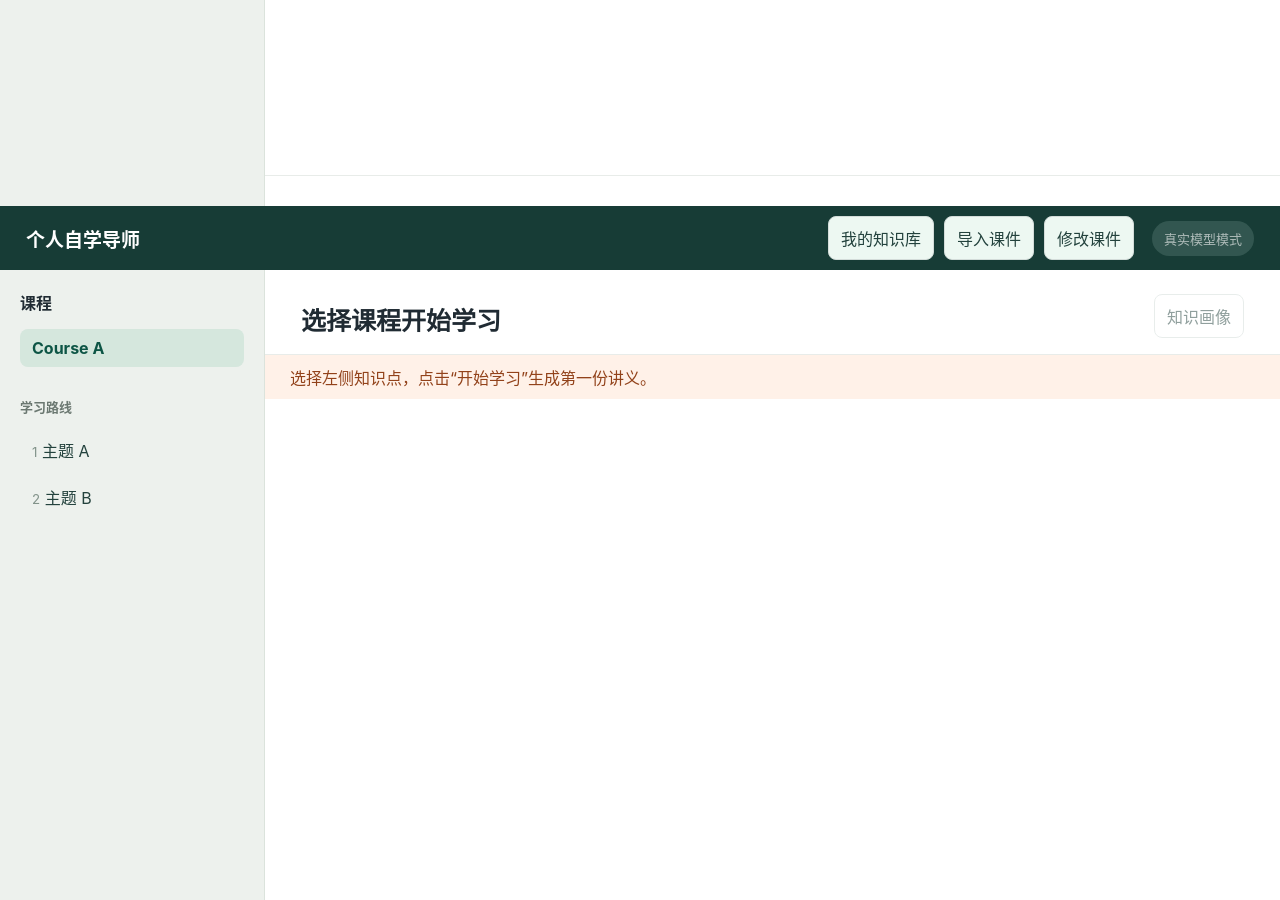
Test: explicit study workflow › opens blank for zero calls, starts explicitly, recovers running job and opens cached lesson with three actions
(page scrolled)
Click the button "1 主题 A" at (132, 450), box 20,429 -> 244,471
(page scrolled)
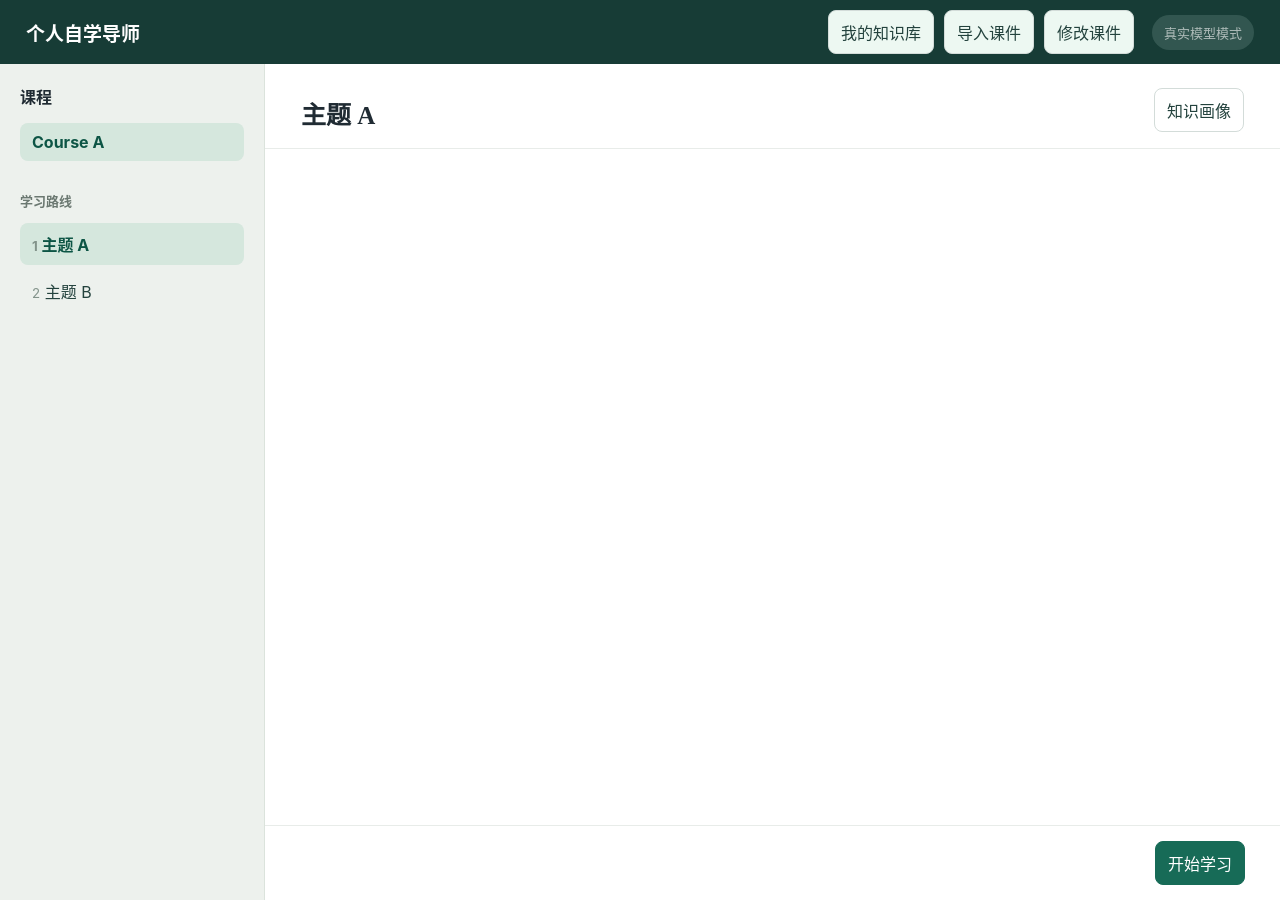
Expected: the element with class "reading" is empty, 265,149 -> 1279,825
Expected: the heading "主题 A" is shown, 301,95 -> 375,131
Expected: the element with class "actions" reads "开始学习"
Click the button "开始学习" at (1200, 863), box 1155,841 -> 1245,885
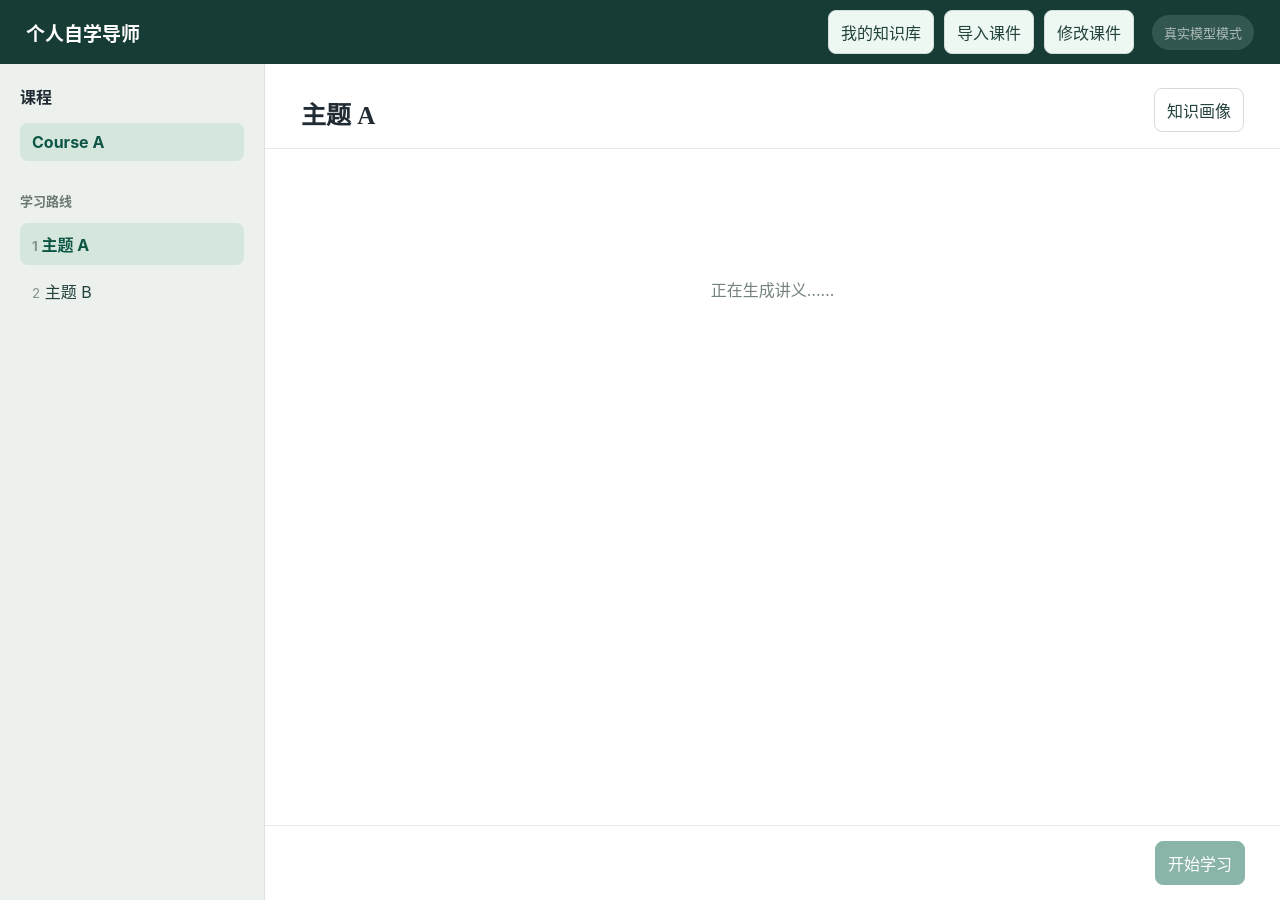
Expected: the element with class "reading" reads "正在生成讲义……", 711,280 -> 834,300
Expected: the button "开始学习" is disabled, 1155,841 -> 1245,885
Click the button "2 主题 B" at (132, 291), box 20,270 -> 244,312
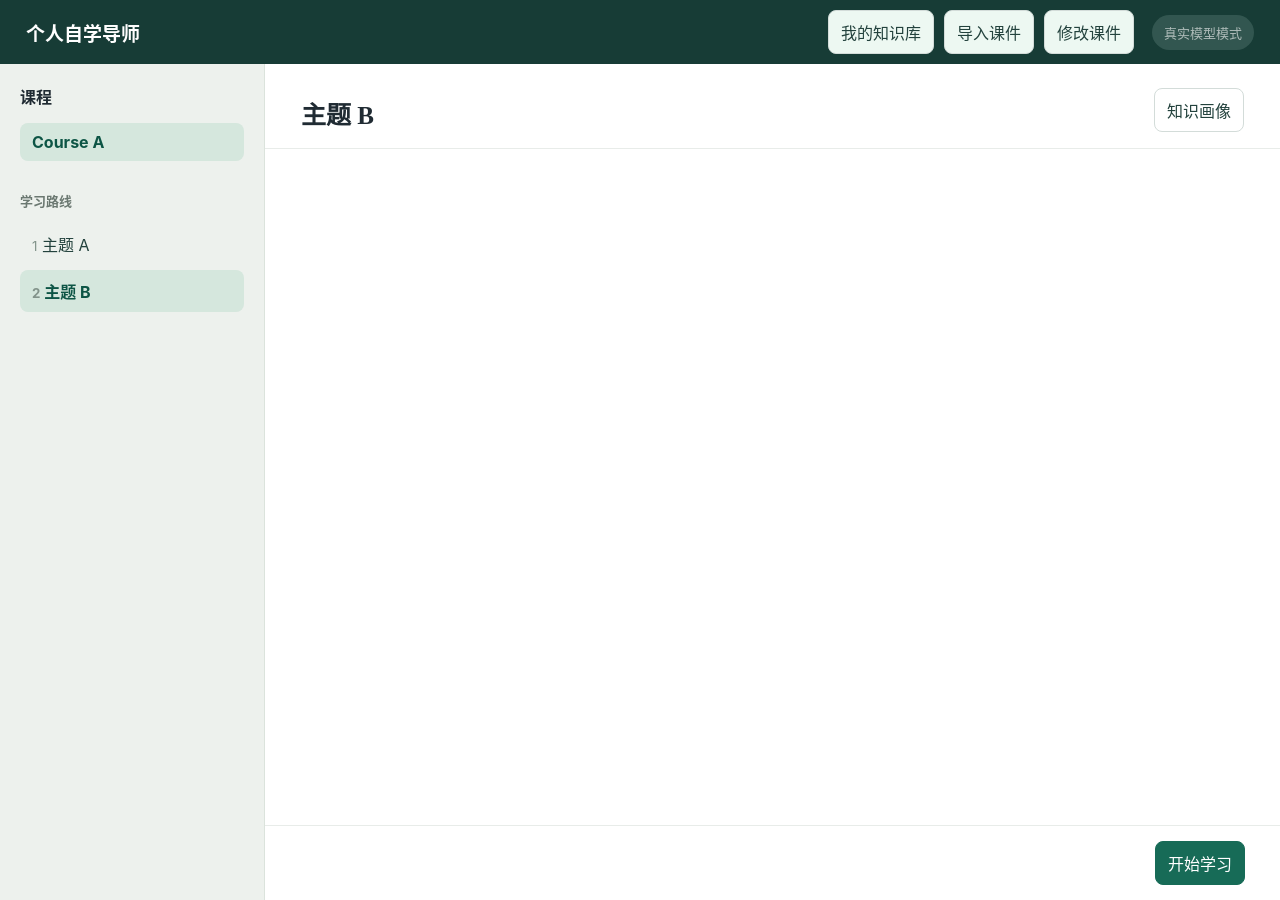
Click the button "1 主题 A" at (132, 244), box 20,223 -> 244,265
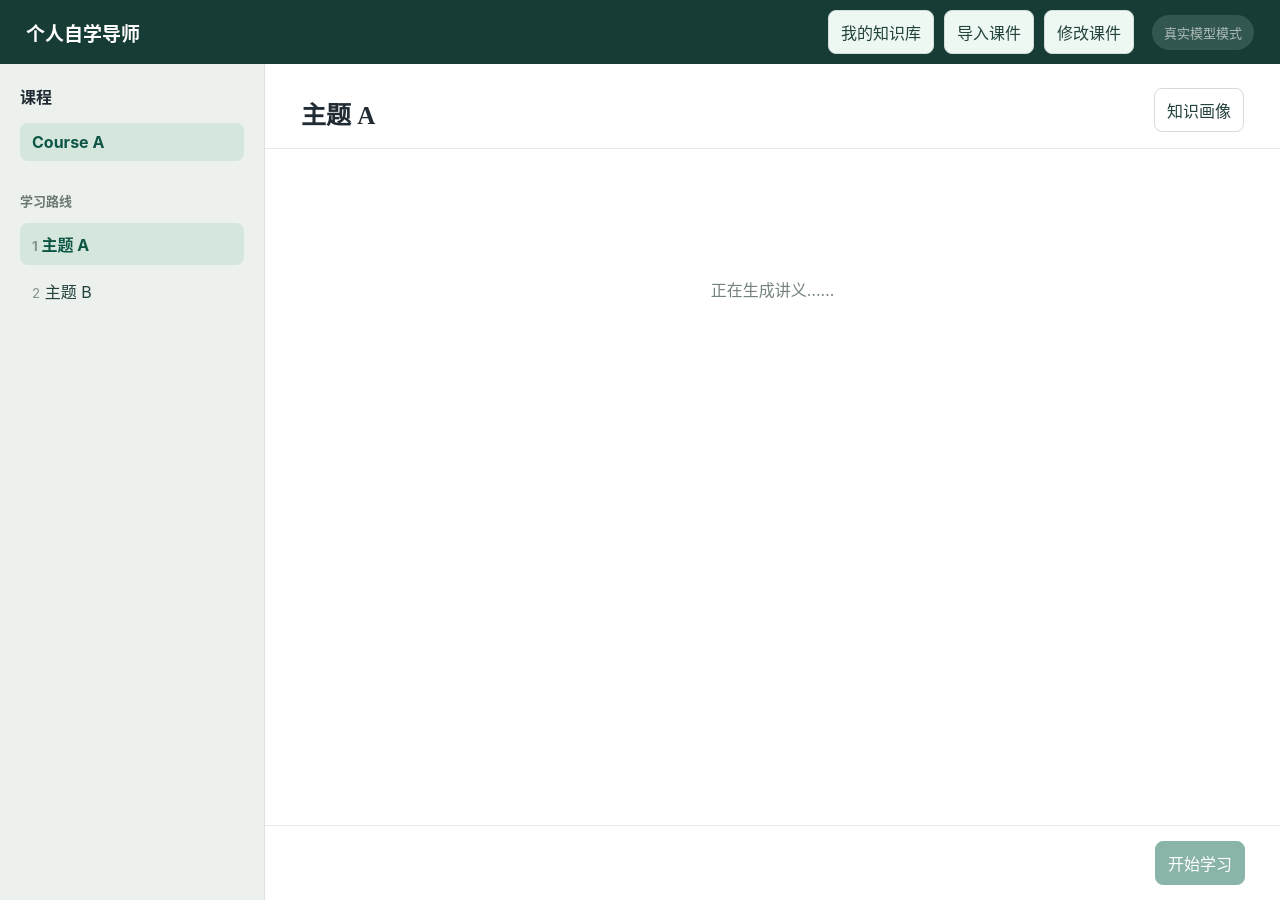
Expected: the element with class "reading" reads "正在生成讲义……", 711,280 -> 834,300
Click the button "1 主题 A" at (132, 244), box 20,223 -> 244,265
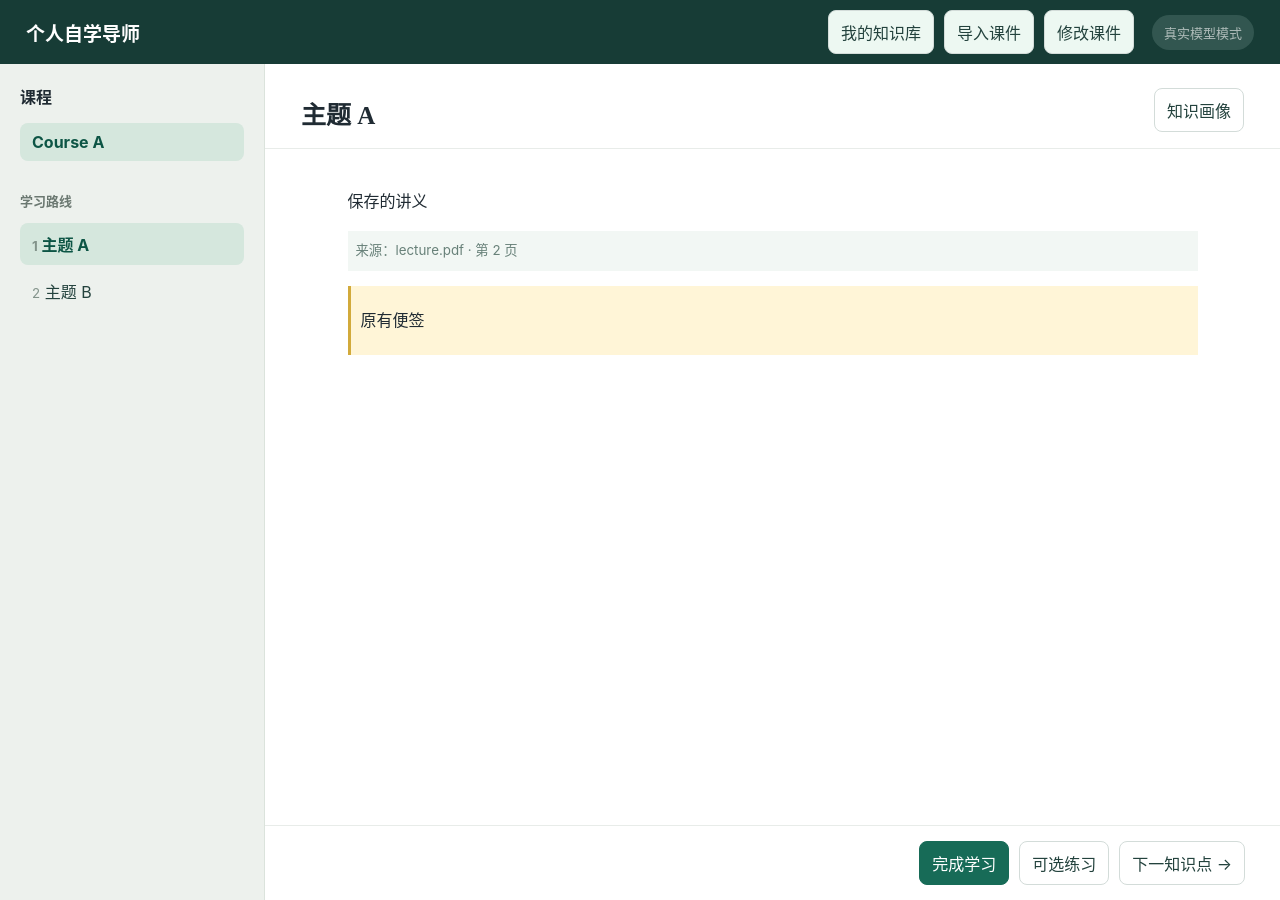
Expected: the element with class "toolbar" does not show "Course A"
Expected: the element with class "reading" shows "原有便签", 360,310 -> 424,330
Expected: the button "下一知识点 →" is shown
Click the button "下一知识点 →" at (1182, 863), box 1119,841 -> 1245,885
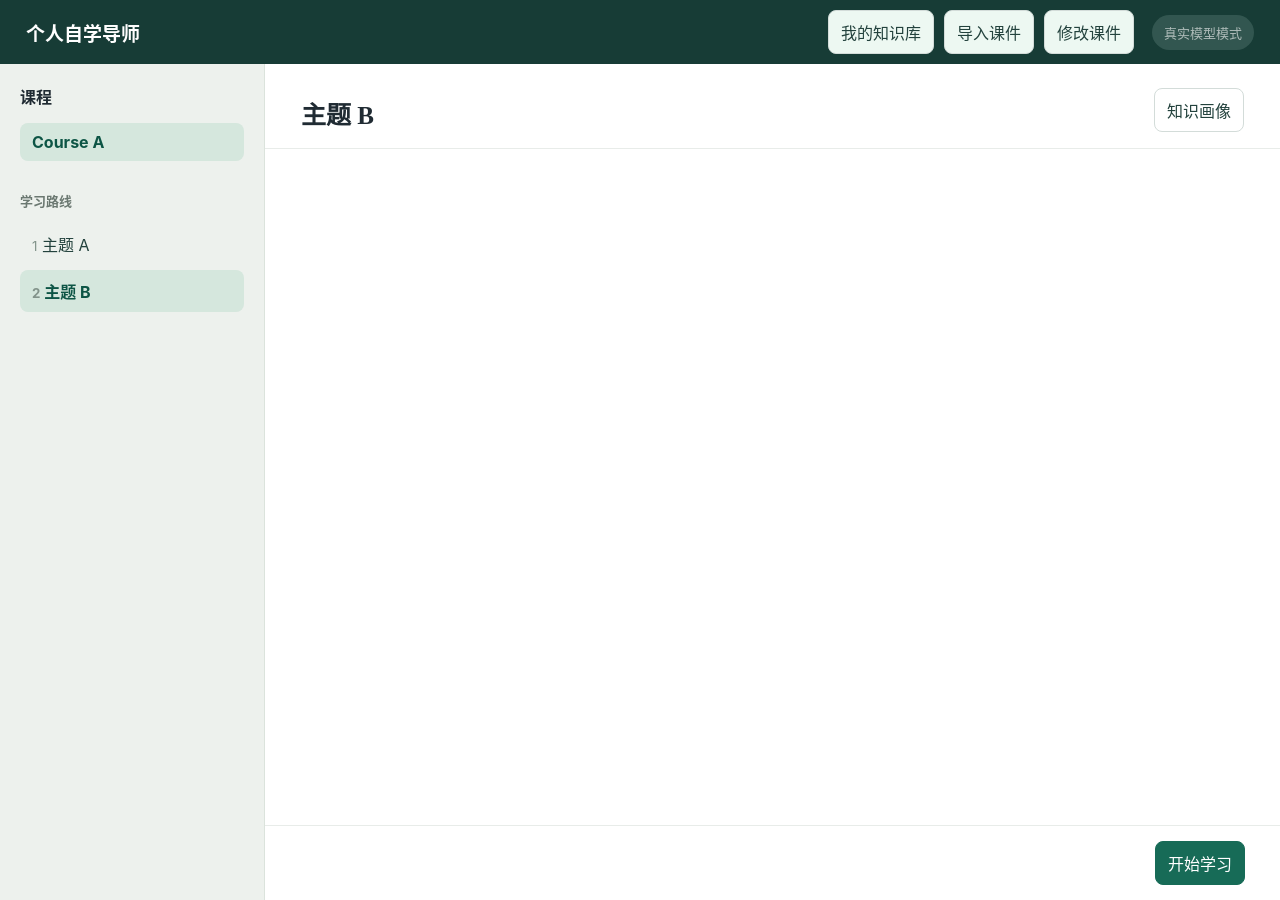
Expected: the element with class "actions" reads "开始学习", 1155,841 -> 1245,885
